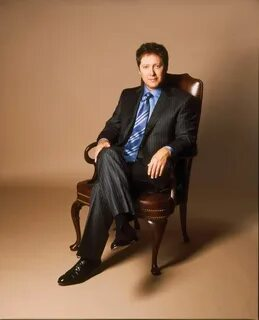awake: (54, 41, 201, 285)
